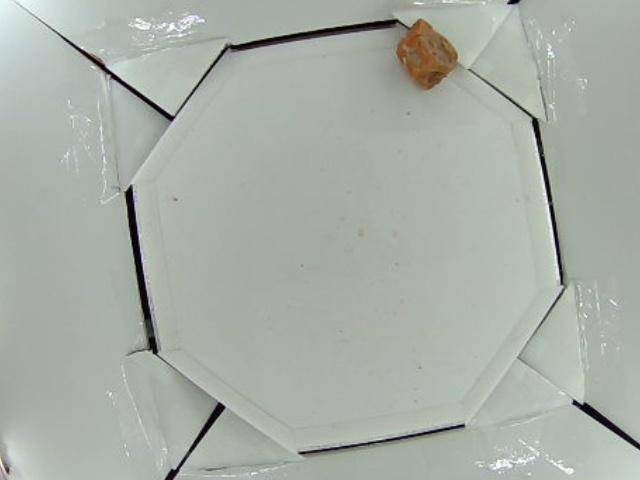Brisk: (395, 18, 460, 89)
